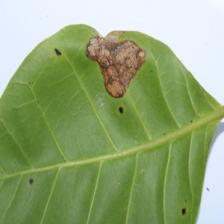leaf miner: (0, 23, 224, 224), (85, 34, 146, 98)
